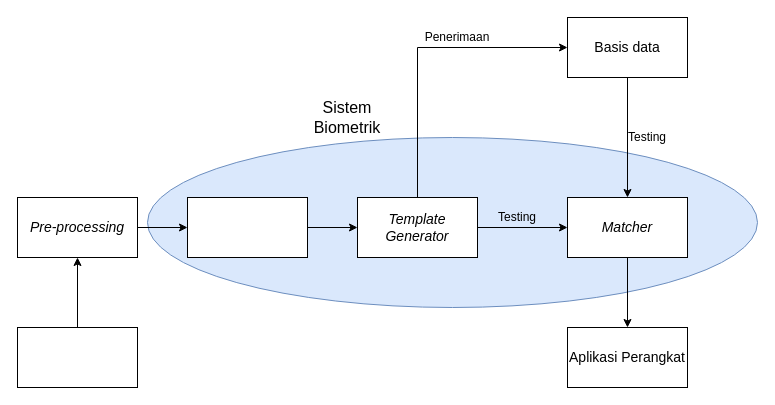
Image size: 775x405. Some labels were removed from this diagram. The centre of each missing label's shape, as x and y in pixels:
Feature Extractor: (247,227)
Sensor: (77,357)
